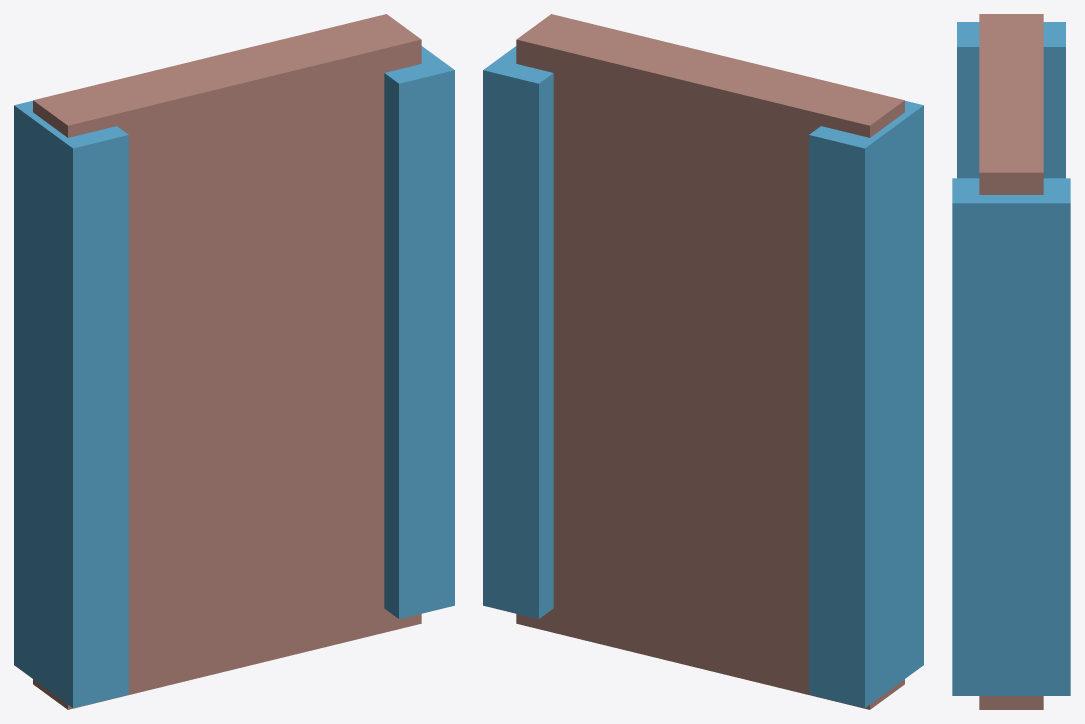
The model's file is dranmar_deformable_attachment_masks_debug.glb.
The picture shows the model from 3 angles, left to right: view 1: azimuth 30°, elevation 25°; view 2: azimuth 150°, elevation 25°; view 3: azimuth 270°, elevation 25°; orthographic projection. The views are drawn at different scales.
Visible parts, largest first — view 1: WallLeft, LeftOuter, LeftEdge; view 2: WallLeft, LeftOuter, LeftEdge; view 3: LeftEdge, WallLeft, LeftOuter.
Part boxes in pixels (left/top/right/bottom): WallLeft: left=33, top=14, right=421, bottom=709; LeftOuter: left=14, top=100, right=128, bottom=708; LeftEdge: left=384, top=46, right=454, bottom=619; WallLeft: left=516, top=14, right=904, bottom=709; LeftOuter: left=809, top=100, right=923, bottom=708; LeftEdge: left=483, top=46, right=553, bottom=619; LeftEdge: left=952, top=178, right=1070, bottom=695; WallLeft: left=979, top=14, right=1043, bottom=709; LeftOuter: left=957, top=22, right=1065, bottom=178.
Size of the model in its own units: 0.163 by 0.24 by 0.048.
